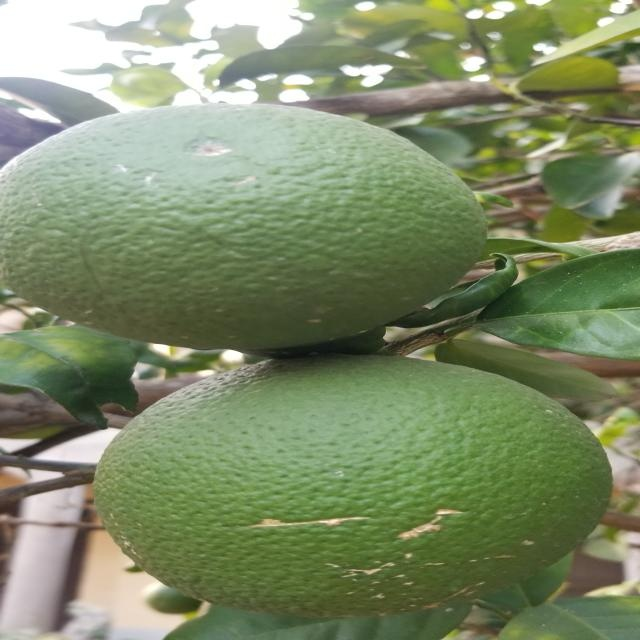agrume: (91, 360, 640, 621), (3, 94, 500, 357)
